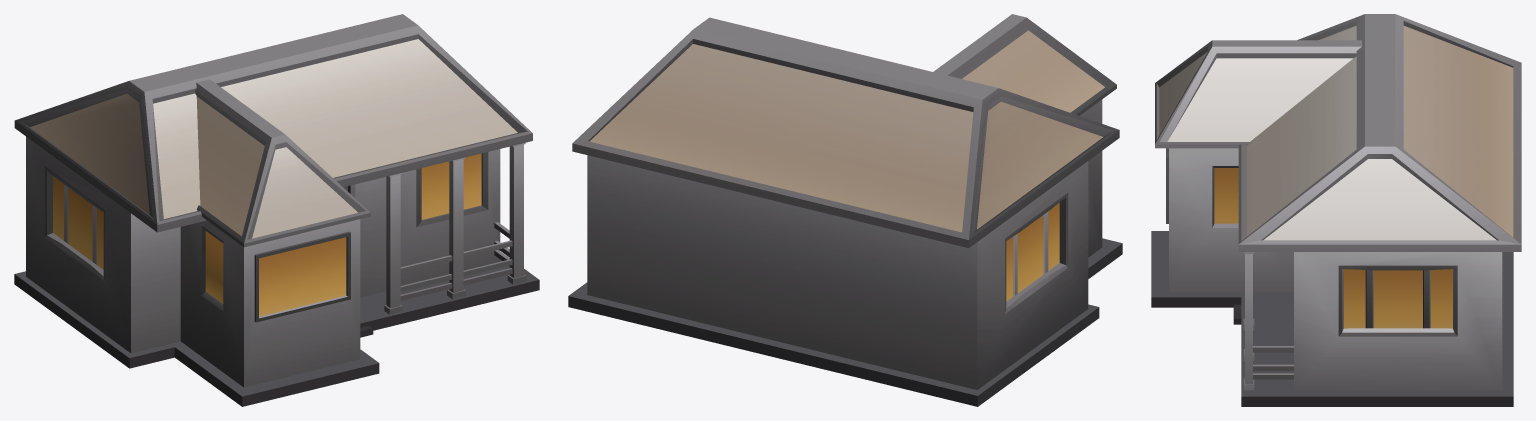
The model's file is SM_Building_8.fbx.
3 views of the same model, side by side, from view 1: azimuth 30°, elevation 25°; view 2: azimuth 150°, elevation 25°; view 3: azimuth 270°, elevation 25° (orthographic). The views are drawn at different scales.
Parts seen in each view (by area): view 1: SM_Building_8; view 2: SM_Building_8; view 3: SM_Building_8.
Part boxes in pixels (x1,y1,x2,y2): SM_Building_8: (14,14,539,406); SM_Building_8: (568,14,1122,406); SM_Building_8: (1151,14,1521,406).
Bounding box in the file's own units: 1128 × 649 × 940.
